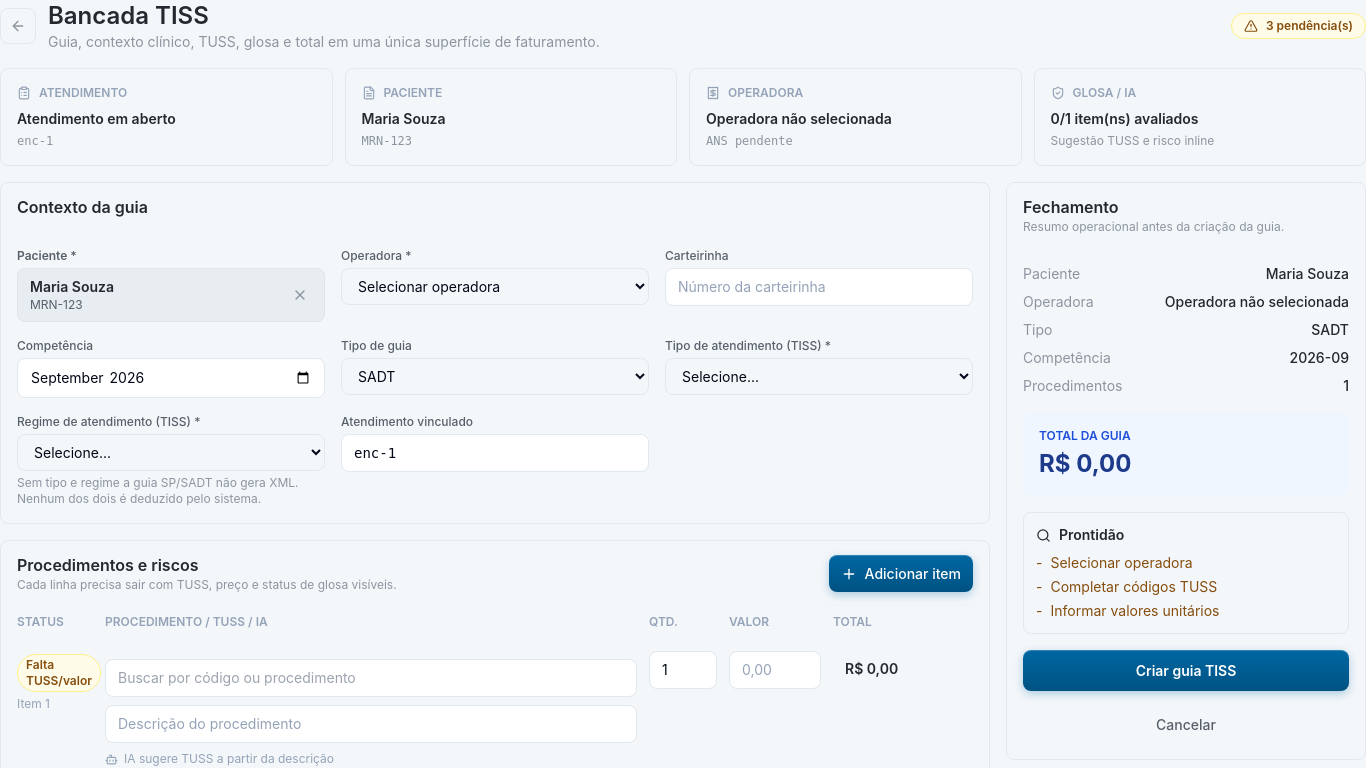
Test case: NewGuidePage › offers atendimento fields for SADT and drops them for a guide type without the block
Expected: the dropdown labelled "Tipo de atendimento (TISS) *" is shown, [665,358,973,395]
Expected: the dropdown labelled "Regime de atendimento (TISS) *" is shown, [17,434,325,471]
Select "Consulta" in the dropdown labelled "Tipo de guia" at (495, 376), box [341,358,649,395]
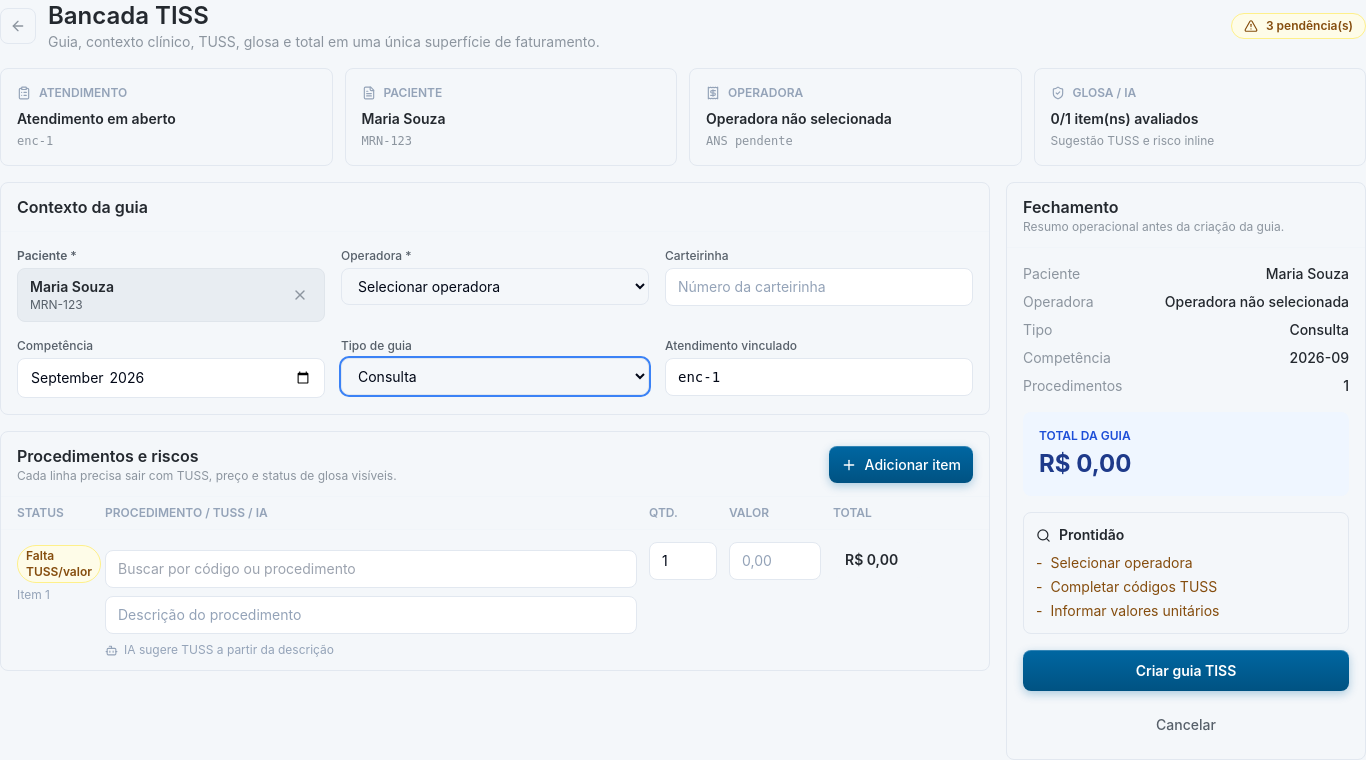
Expected: the label labelled "Tipo de atendimento (TISS) *" is gone
Expected: the label labelled "Regime de atendimento (TISS) *" is gone
